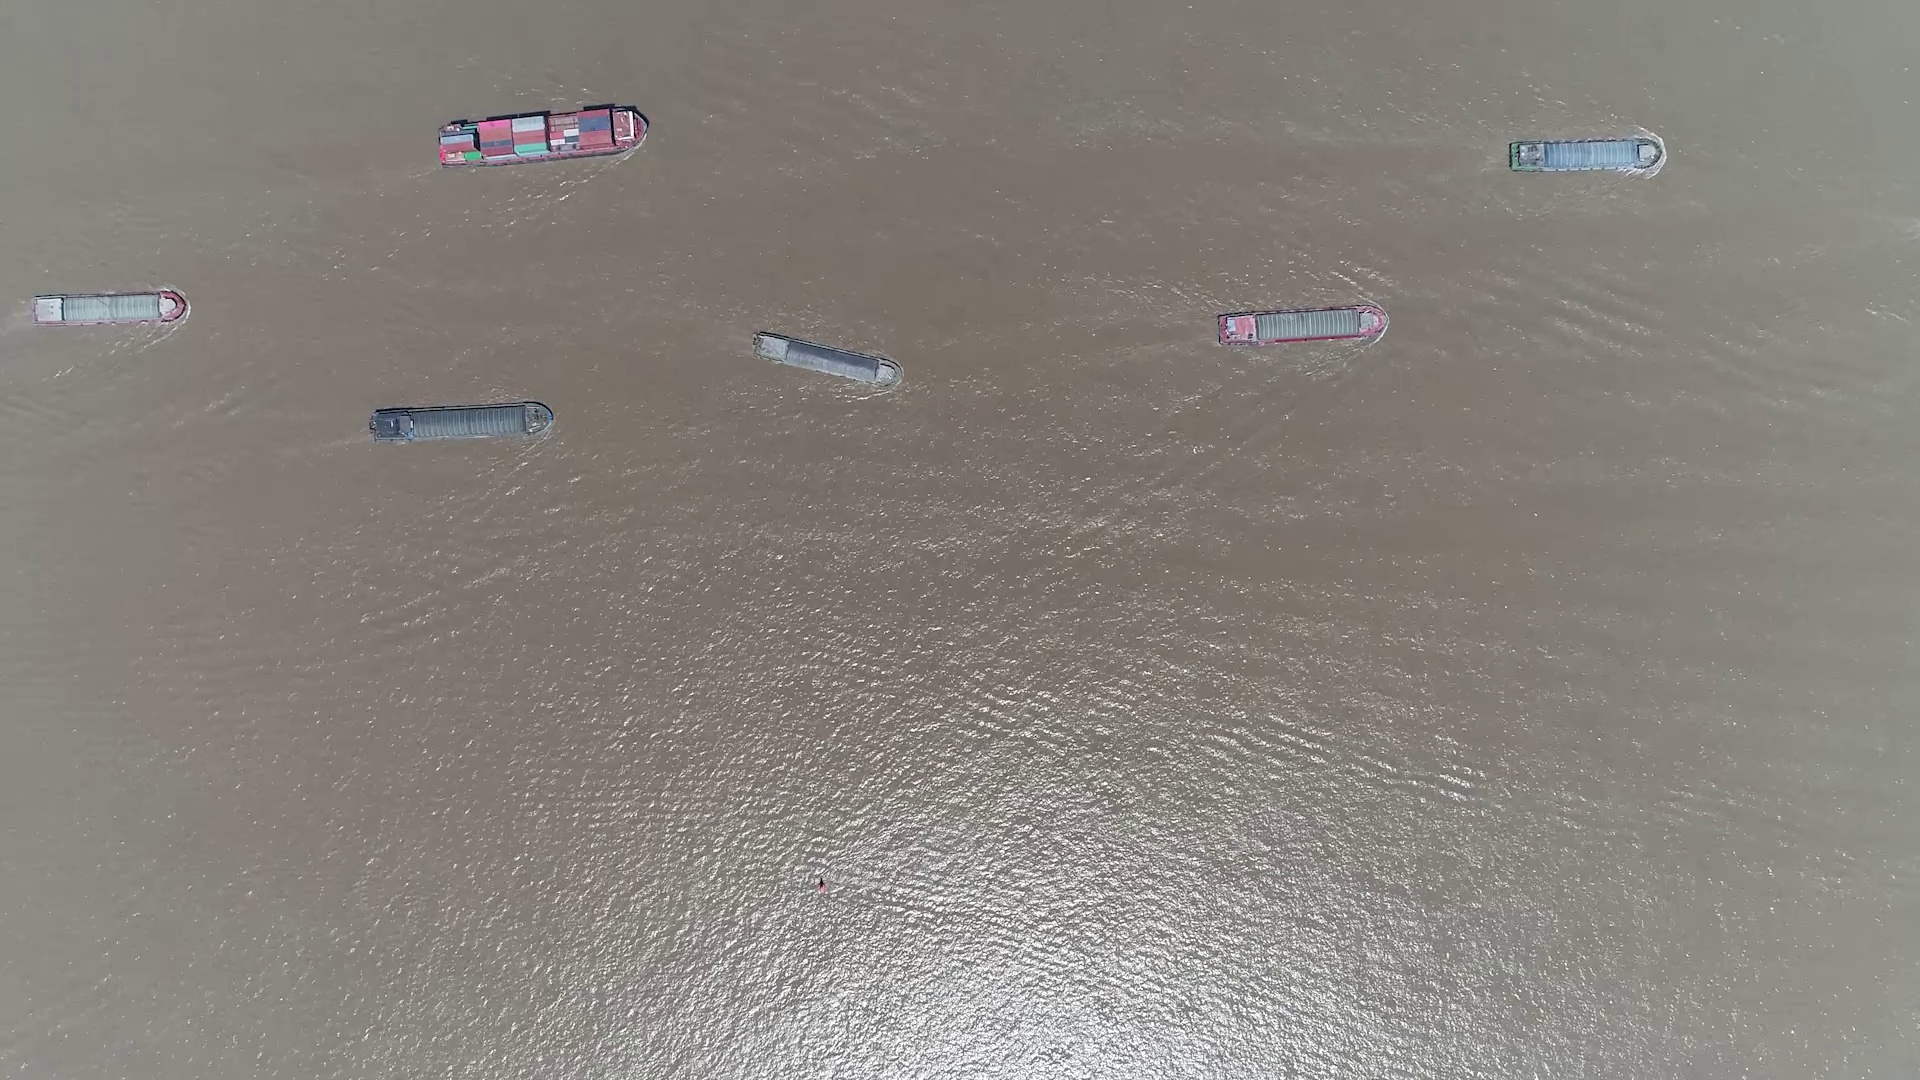ship: (438, 109, 647, 167), (752, 330, 899, 385), (368, 404, 553, 443), (1217, 307, 1389, 345), (1509, 138, 1662, 171), (32, 291, 185, 324)
